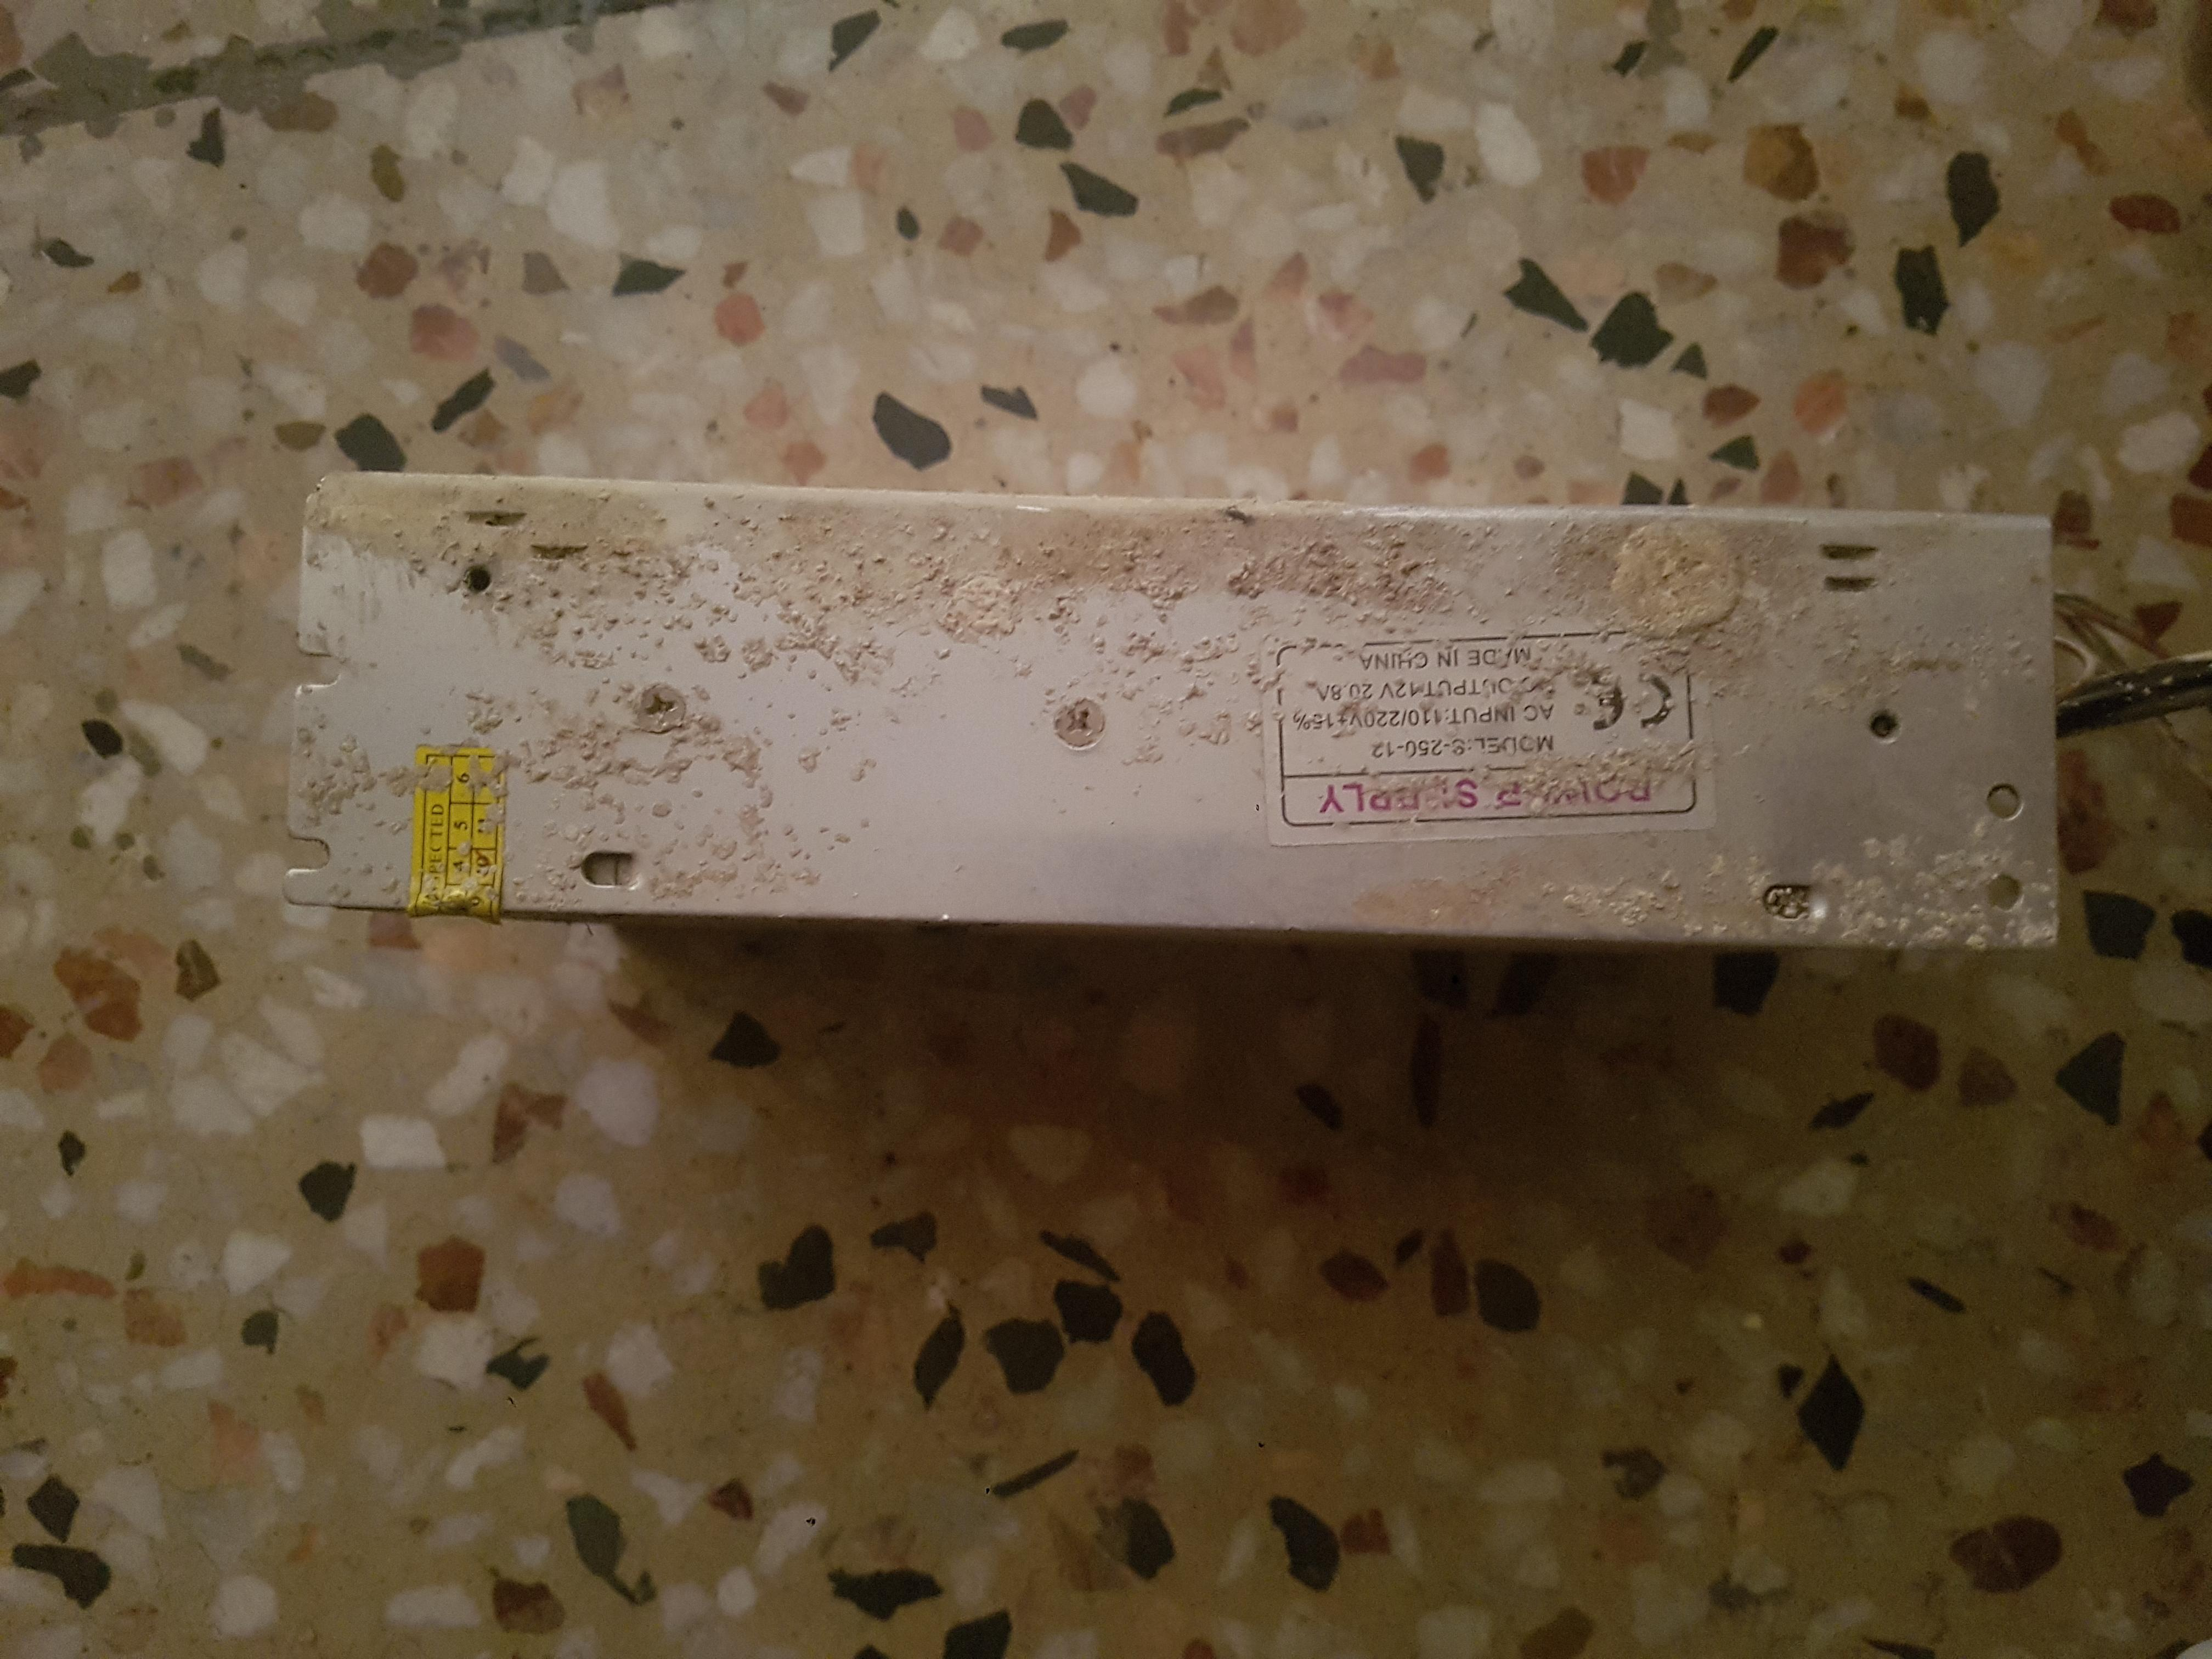electronic: (143, 695, 1937, 1213)
